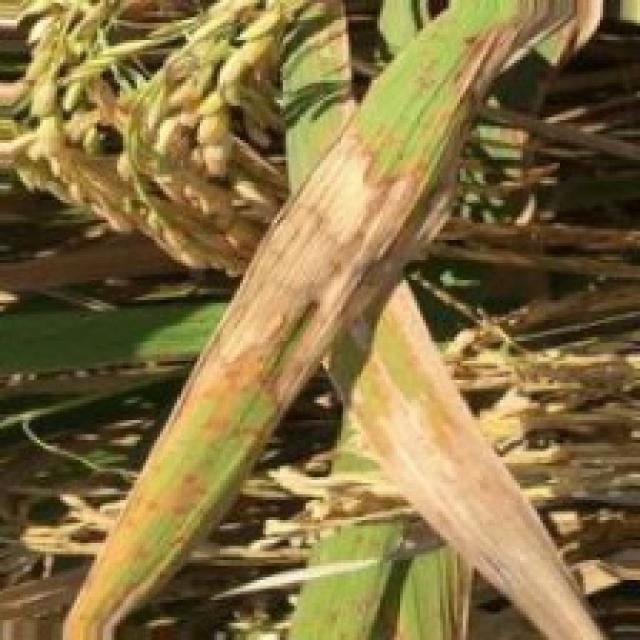Bacterial_Blight: (307, 348, 623, 640), (158, 113, 423, 412), (437, 18, 544, 115)
Brown_Spot: (134, 487, 158, 533), (176, 477, 206, 513), (97, 568, 124, 594)
